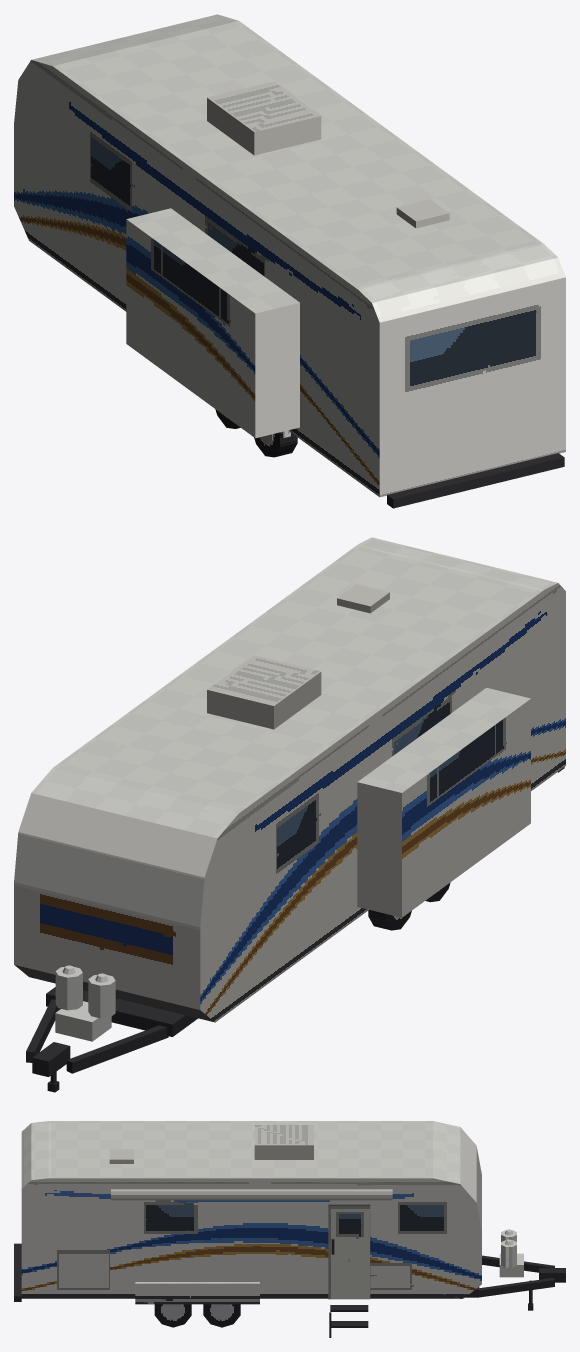
The picture shows the model from 3 angles, top to bottom: view 1: azimuth 30°, elevation 25°; view 2: azimuth 150°, elevation 25°; view 3: azimuth 270°, elevation 25°; orthographic projection. The views are drawn at different scales.
Visible parts, largest first — view 1: Body, Roof gear, Chassis, Tyres; view 2: Body, Roof gear, Chassis, Tanks, Tyres; view 3: Body, Roof gear, Door, Chassis, Tanks, Tyres, Rims.
Part boxes in pixels (x1,y1,x2,y2): Body: (14, 14, 565, 497); Roof gear: (207, 81, 449, 228); Chassis: (387, 453, 564, 508); Tyres: (215, 409, 297, 457); Body: (14, 537, 565, 1022); Roof gear: (207, 584, 389, 729); Chassis: (26, 767, 564, 1092); Tanks: (55, 965, 115, 1041); Tyres: (368, 882, 450, 930); Body: (21, 1121, 481, 1304); Roof gear: (109, 1124, 392, 1200); Door: (328, 1204, 370, 1299); Chassis: (14, 1239, 565, 1337); Tanks: (499, 1229, 523, 1277); Tyres: (154, 1304, 240, 1327); Rims: (163, 1304, 231, 1319).
Bounding box in the file's own units: 3.62 × 3.46 × 10.19.
Materials: 7 (7 with a texture image).
